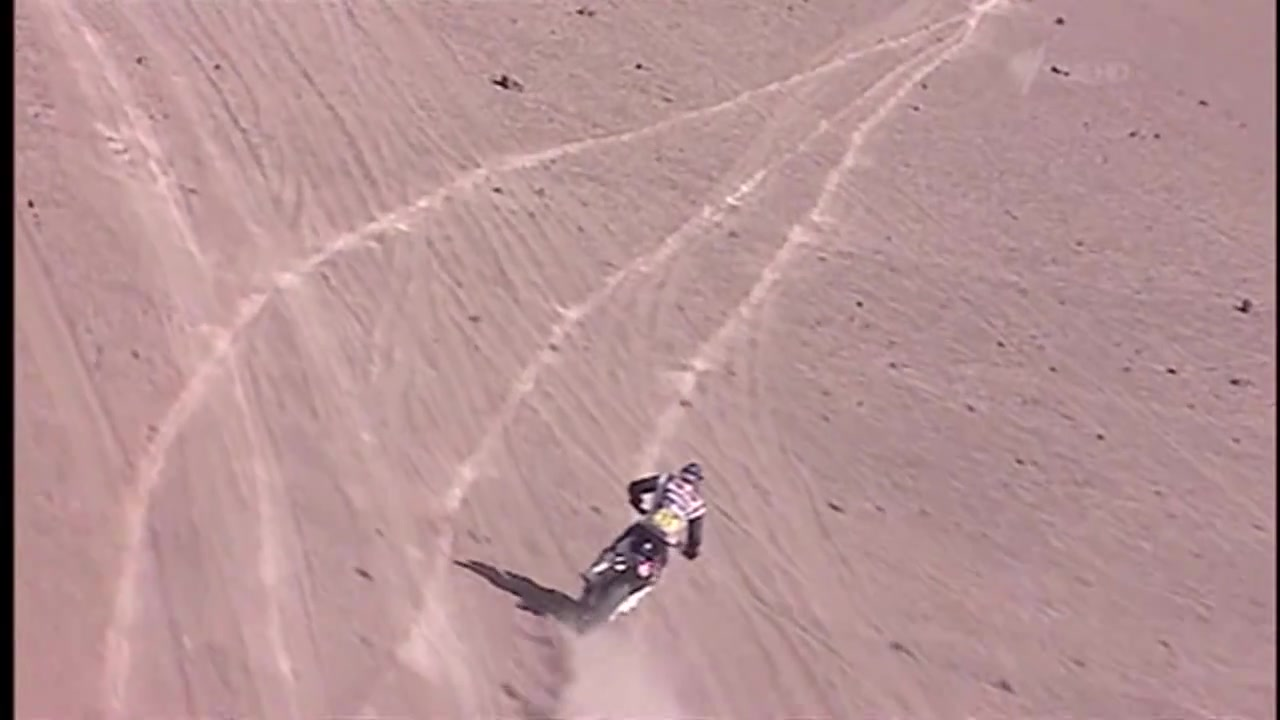motorbike: (572, 502, 686, 629)
